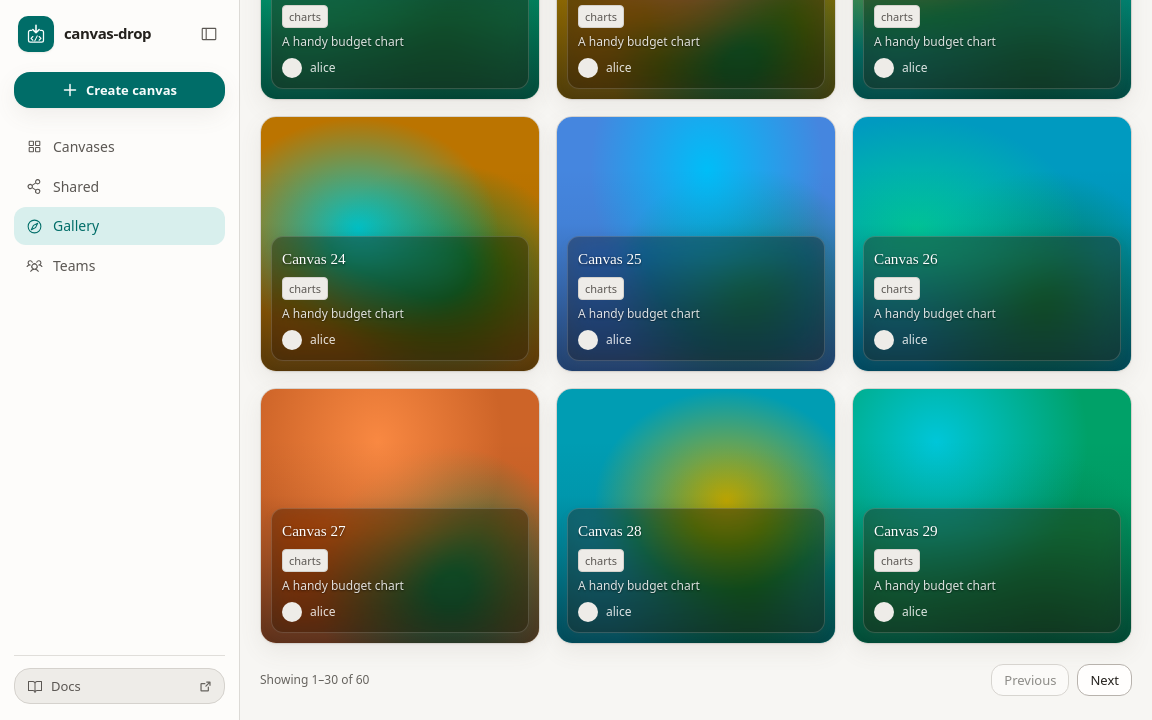
Test: Gallery view › paginates: derives range from the response and advances offset
The width and height of the screenshot is (1152, 720).
(page scrolled)
Expected: the text "Showing 1–30 of 60" is shown, [260,672,370,688]
Expected: the button "Previous" is disabled, [991,664,1069,696]
Click the button "Next" at (1105, 680), box [1078,664,1132,696]
(page scrolled)
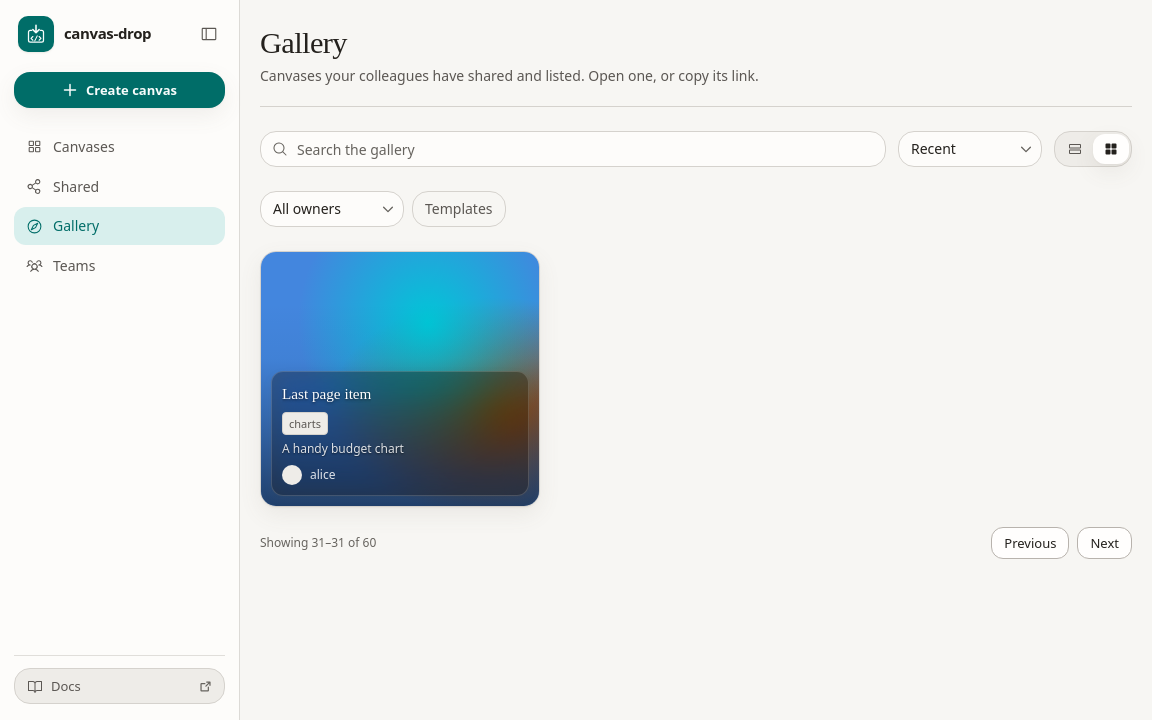
Expected: the link "Last page item" is shown, [282,382,371,406]
Expected: the text "Showing 31–31 of 60" is shown, [260,535,376,551]
